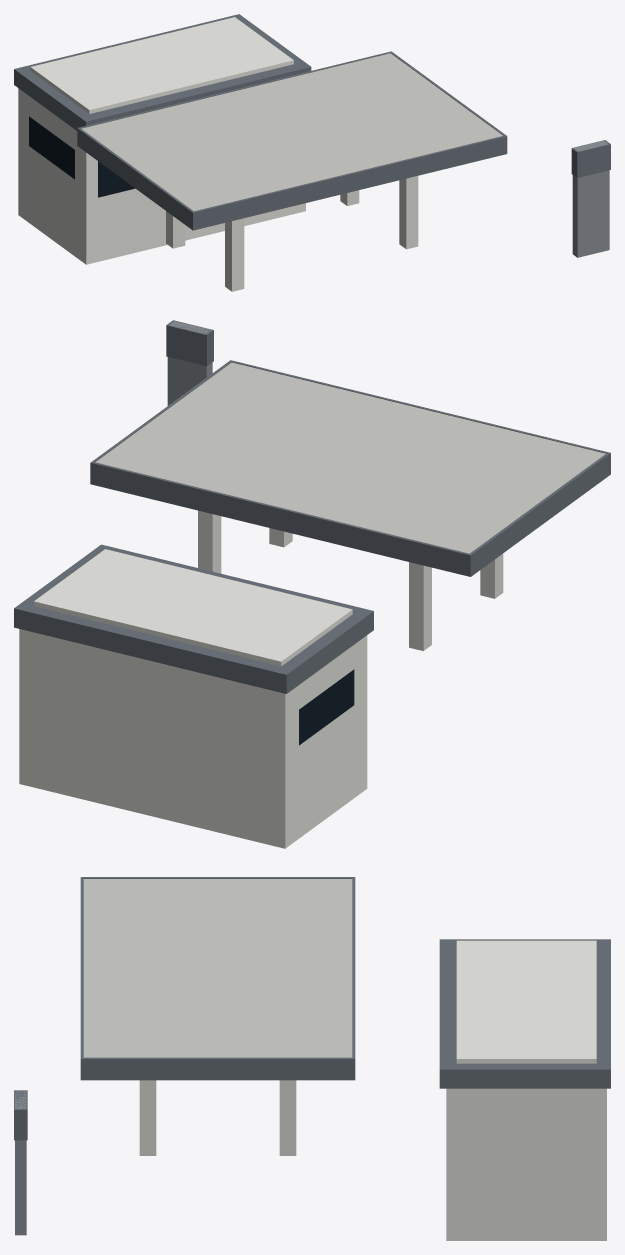
Rendered from azs_generic.lod.glb.
3 renders of one model, top to bottom at view 1: azimuth 30°, elevation 25°; view 2: azimuth 150°, elevation 25°; view 3: azimuth 270°, elevation 25°, orthographic. The views are drawn at different scales.
Parts seen in each view (by area): view 1: azs_generic_canopy, azs_generic_shop_wall, azs_generic_brand, azs_generic_shop_band, azs_generic_clad, azs_generic_stela, azs_generic_shop_glass, azs_generic_stela2; view 2: azs_generic_shop_wall, azs_generic_canopy, azs_generic_brand, azs_generic_shop_band, azs_generic_clad, azs_generic_shop_glass, azs_generic_stela2, azs_generic_stela; view 3: azs_generic_canopy, azs_generic_shop_wall, azs_generic_shop_band, azs_generic_brand, azs_generic_clad, azs_generic_stela, azs_generic_stela2.
Part boxes in pixels (left/top/right/bottom): azs_generic_canopy: left=81, top=53, right=502, bottom=211; azs_generic_shop_wall: left=18, top=17, right=305, bottom=264; azs_generic_brand: left=77, top=51, right=507, bottom=230; azs_generic_shop_band: left=14, top=14, right=311, bottom=130; azs_generic_clad: left=166, top=176, right=418, bottom=291; azs_generic_stela: left=572, top=140, right=609, bottom=257; azs_generic_shop_glass: left=29, top=116, right=134, bottom=197; azs_generic_stela2: left=571, top=140, right=610, bottom=177; azs_generic_shop_wall: left=19, top=549, right=367, bottom=848; azs_generic_canopy: left=96, top=362, right=605, bottom=553; azs_generic_brand: left=90, top=360, right=610, bottom=576; azs_generic_shop_band: left=14, top=544, right=373, bottom=693; azs_generic_clad: left=198, top=510, right=503, bottom=650; azs_generic_shop_glass: left=299, top=669, right=354, bottom=745; azs_generic_stela2: left=166, top=320, right=213, bottom=366; azs_generic_stela: left=167, top=321, right=212, bottom=405; azs_generic_canopy: left=83, top=879, right=352, bottom=1057; azs_generic_shop_wall: left=446, top=940, right=606, bottom=1240; azs_generic_shop_band: left=439, top=939, right=610, bottom=1088; azs_generic_brand: left=80, top=877, right=355, bottom=1080; azs_generic_clad: left=139, top=1080, right=296, bottom=1155; azs_generic_stela: left=15, top=1091, right=26, bottom=1235; azs_generic_stela2: left=14, top=1090, right=27, bottom=1140.
Size of the model in its own units: 20.59 by 8.9 by 23.01.
